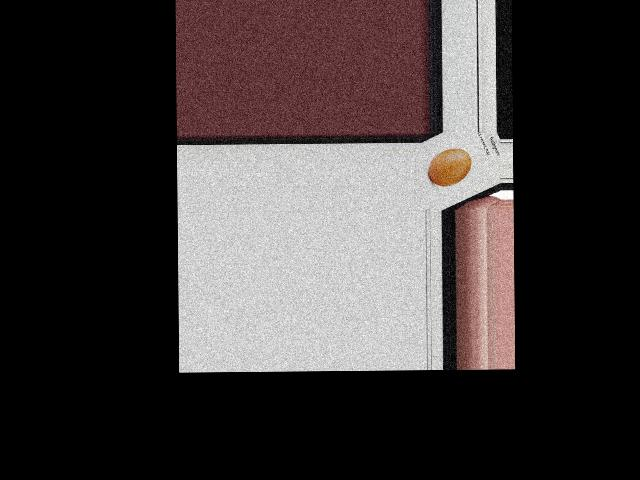egg: (427, 149, 471, 186)
